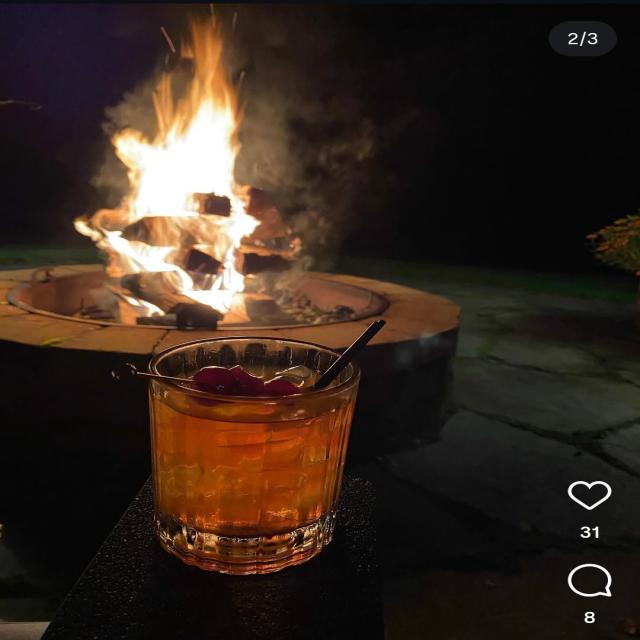fire: (74, 3, 262, 325)
